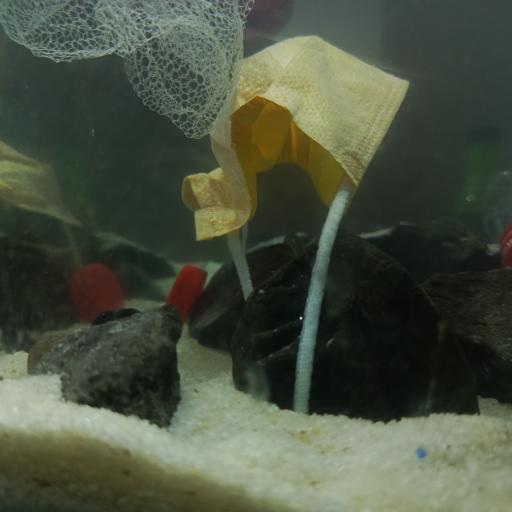bottle_cap: (169, 262, 204, 320)
mask: (180, 34, 414, 312)
net: (2, 2, 252, 144)
